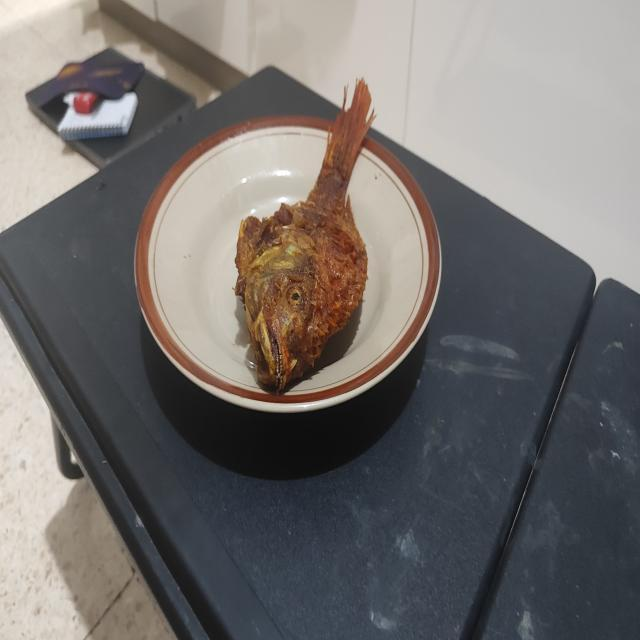ikan_mujair: (234, 80, 374, 390)
